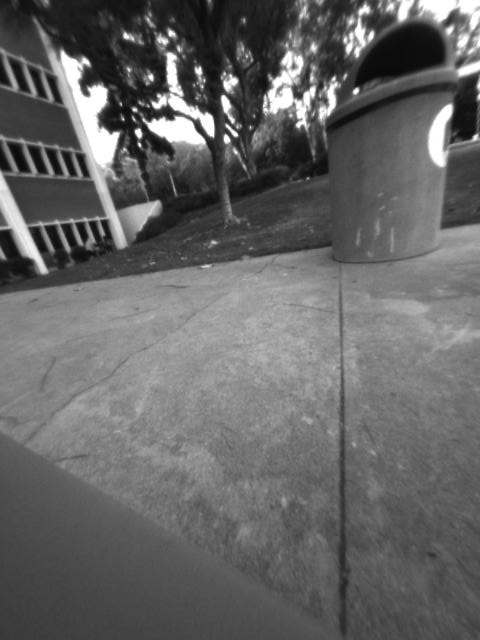trashcan: (331, 16, 461, 265)
